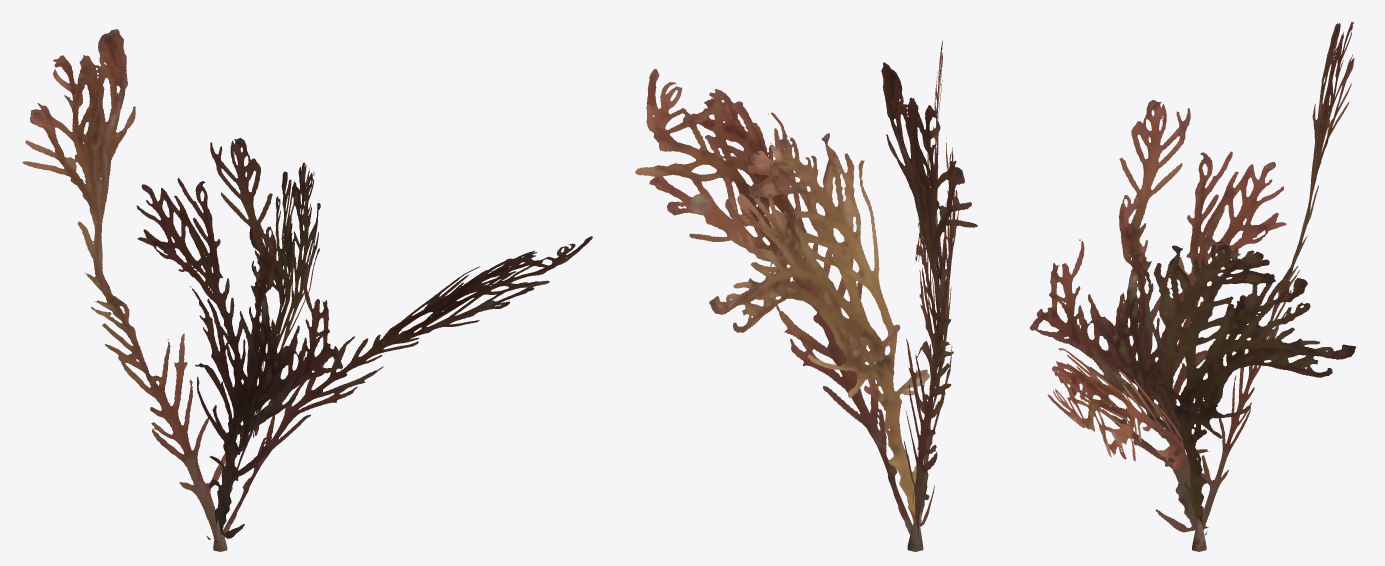
Rendered from seaweed_1_3.FBX.
3 views of the same model, side by side, from view 1: azimuth 30°, elevation 25°; view 2: azimuth 150°, elevation 25°; view 3: azimuth 270°, elevation 25° (orthographic). The views are drawn at different scales.
Visible parts, largest first — view 1: seaweed_1_03; view 2: seaweed_1_03; view 3: seaweed_1_03.
Boxes of the visible parts, x1,y1,x2,y2 form: seaweed_1_03: (22, 29, 592, 551); seaweed_1_03: (635, 40, 977, 551); seaweed_1_03: (1029, 22, 1356, 551).
Size of the model in its own units: 27.28 by 29.3 by 18.31.
1 material, 1 textured.
